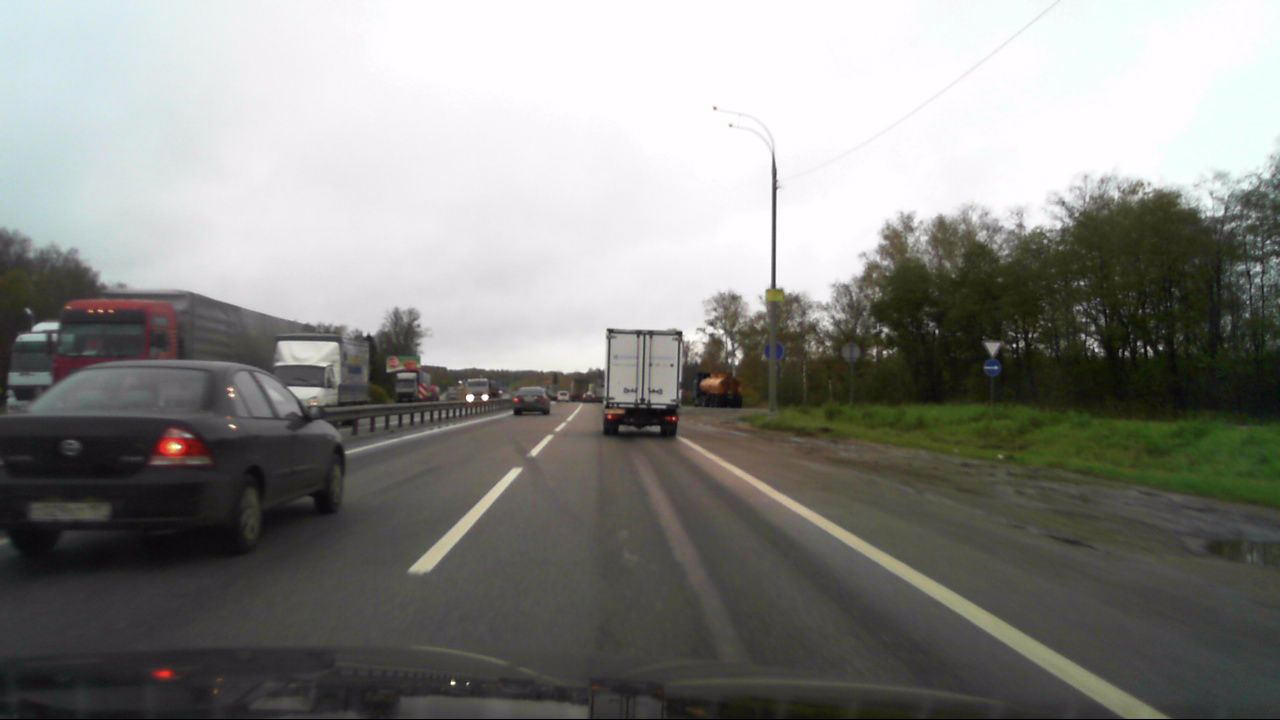Turn Right: (983, 358, 1002, 377)
